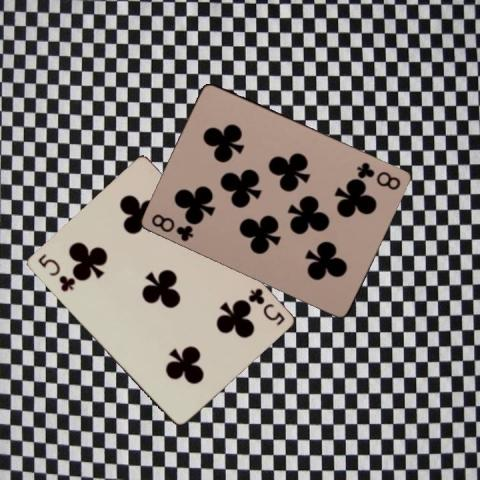5c: (244, 285, 286, 327), (35, 250, 76, 293)
8c: (354, 159, 403, 191), (149, 211, 195, 243)
